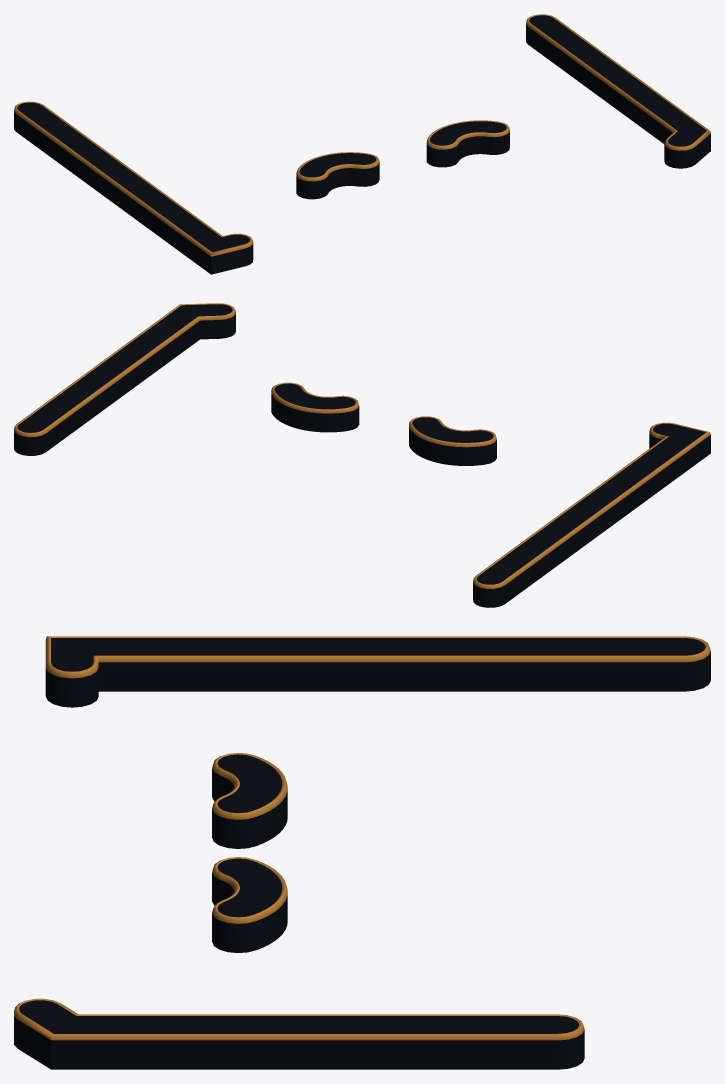
Rendered from siren-walls.dae.
The picture shows the model from 3 angles, top to bottom: view 1: azimuth 30°, elevation 25°; view 2: azimuth 150°, elevation 25°; view 3: azimuth 270°, elevation 25°; orthographic projection. The views are drawn at different scales.
Visible parts, largest first — view 1: cabinet_shell, accent; view 2: cabinet_shell, accent; view 3: cabinet_shell, accent.
Boxes of the visible parts, x1=… form: cabinet_shell: x1=14, y1=15, x2=710, y2=274; accent: x1=14, y1=14, x2=710, y2=256; cabinet_shell: x1=14, y1=304, x2=710, y2=607; accent: x1=14, y1=303, x2=710, y2=588; cabinet_shell: x1=14, y1=638, x2=710, y2=1069; accent: x1=14, y1=636, x2=710, y2=1040.
Size of the model in its own units: 0.75 by 0.03 by 0.5516.
